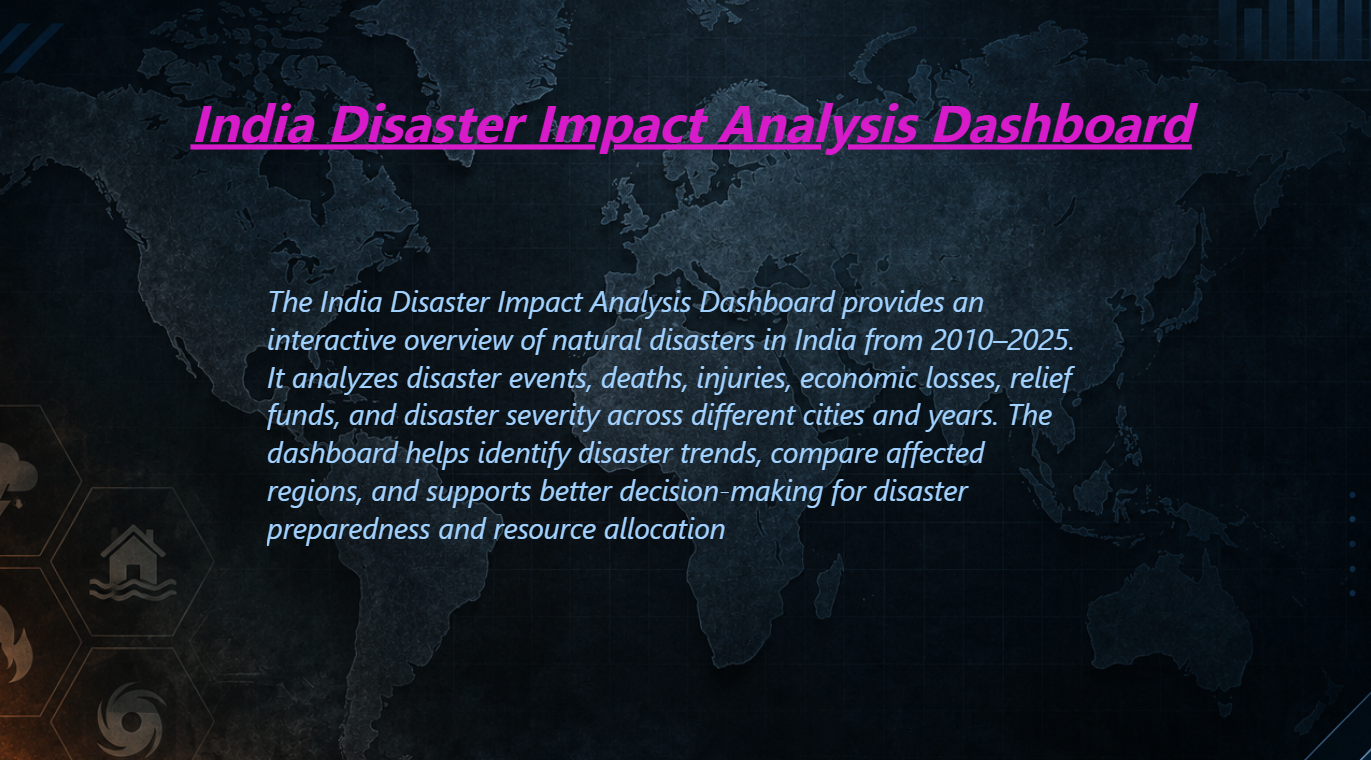

This screenshot's page, from the dashboard's own definition file:
{"tool":"powerbi","page":{"name":"Overview","canvas":[1280,720],"ordinal":0},"visuals":[{"type":"textbox","box":[78,258,1146,374],"z":0},{"type":"textbox","box":[78.6,100,1145.7,102.9],"z":1000}]}

Visuals, with their boxes in screenshot pixels (x1, y1, x2, y2), scaled from the page's 1280x720 canvas onto the 1371x760 screenshot:
textbox: bbox=[84, 272, 1311, 667]
textbox: bbox=[84, 106, 1311, 214]
